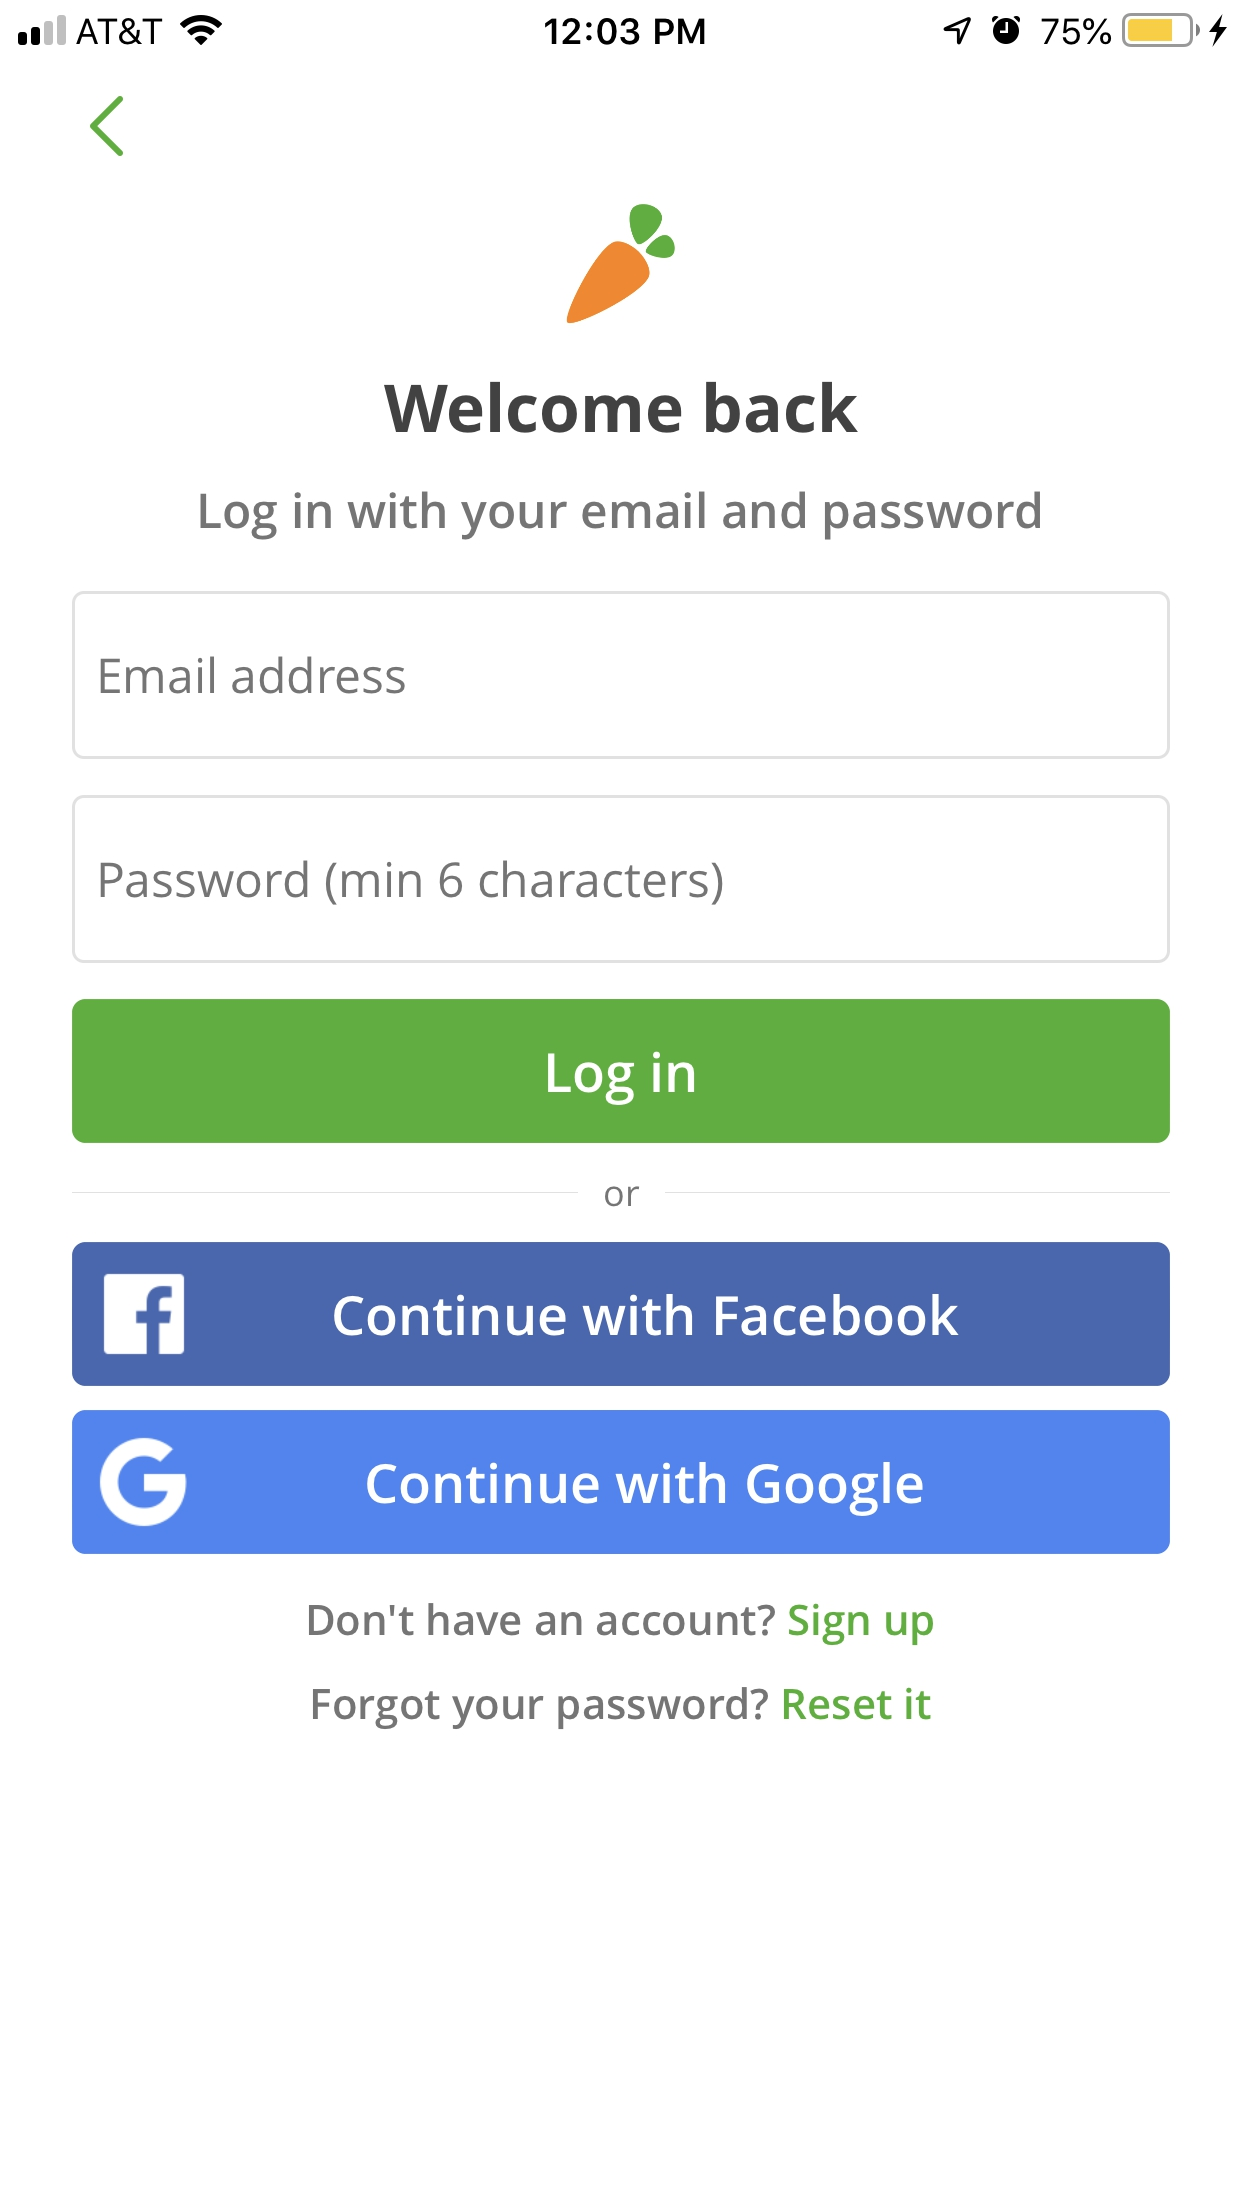EditText: (71, 795, 1171, 964), (71, 591, 1171, 760)
Icon: (89, 96, 124, 158)
Image: (567, 205, 676, 325)
Text: (200, 491, 1040, 541), (102, 860, 723, 905), (309, 1601, 934, 1645), (312, 1686, 933, 1730), (384, 381, 858, 434), (102, 657, 406, 695), (604, 1184, 640, 1209)
TextButton: (71, 1242, 1171, 1388), (71, 999, 1171, 1143), (71, 1410, 1171, 1554)
UpperTaskBar: (2, 2, 1242, 49)
